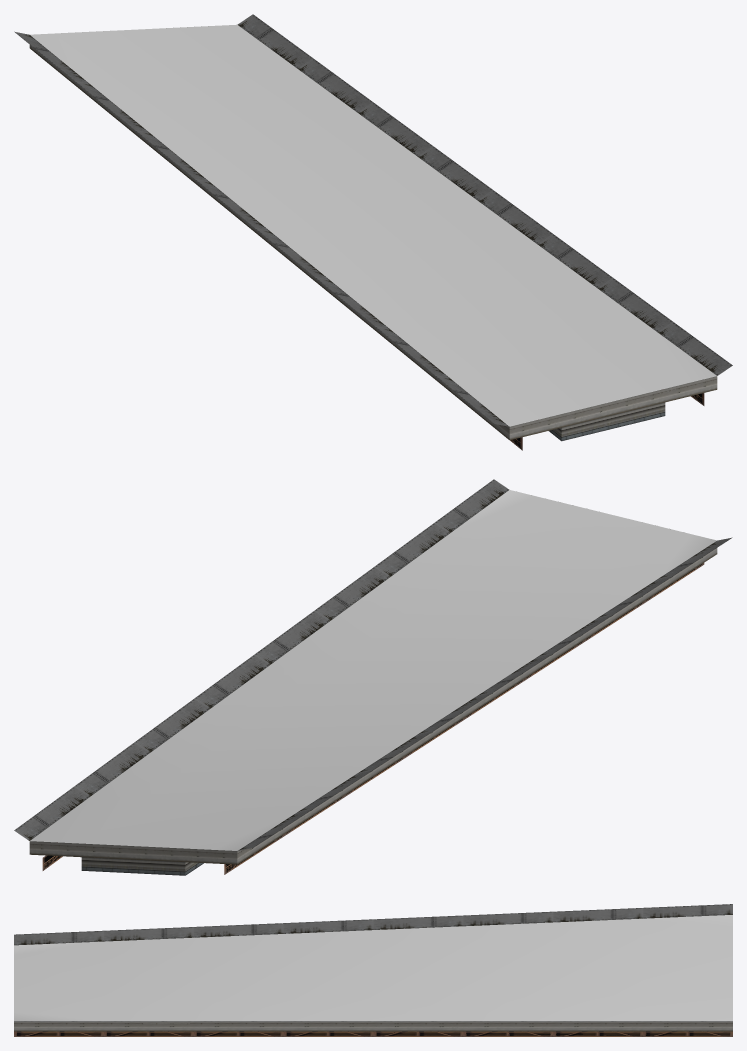
The model's file is StrToBanked.fbx.
The picture shows the model from 3 angles, top to bottom: view 1: azimuth 30°, elevation 25°; view 2: azimuth 150°, elevation 25°; view 3: azimuth 270°, elevation 25°; orthographic projection. The views are drawn at different scales.
Visible parts, largest first — view 1: Empty_Mesh; view 2: Empty_Mesh; view 3: Empty_Mesh.
Part boxes in pixels (left/top/right/bottom): Empty_Mesh: left=14, top=14, right=732, bottom=450; Empty_Mesh: left=14, top=479, right=732, bottom=875; Empty_Mesh: left=14, top=904, right=732, bottom=1036.
Bounding box in the file's own units: 18.4 × 5.5 × 64.
